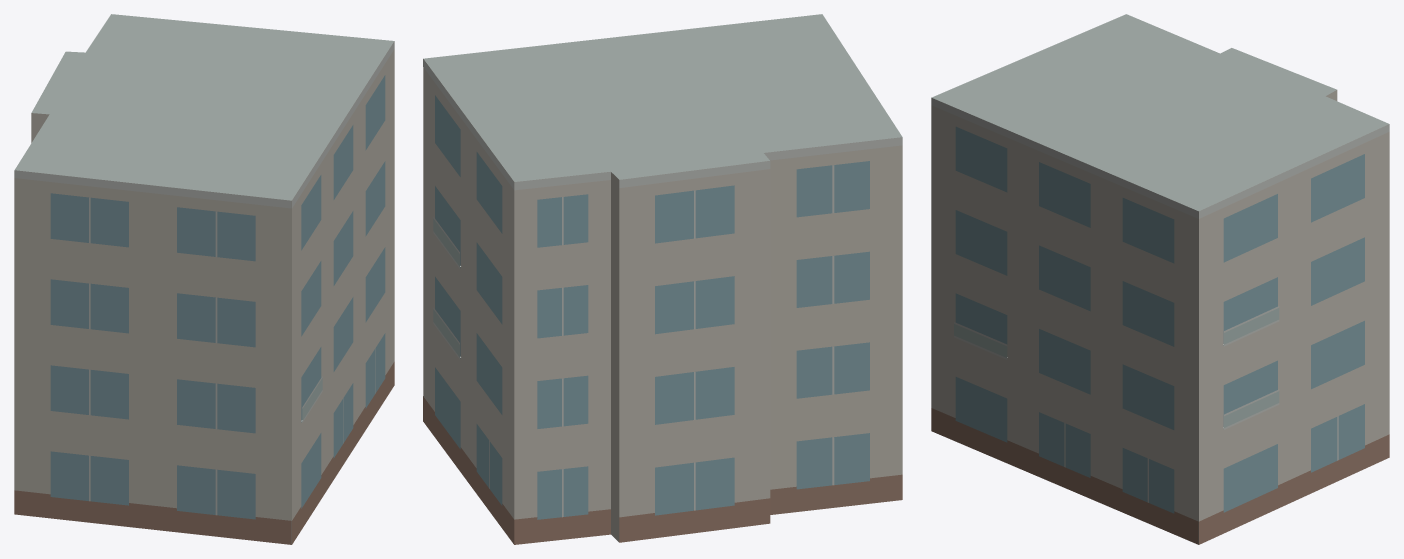
File: survey-upis-32595842.glb
The picture shows the model from 3 angles, left to right: view 1: azimuth 30°, elevation 25°; view 2: azimuth 150°, elevation 25°; view 3: azimuth 270°, elevation 25°; orthographic projection. The views are drawn at different scales.
Parts seen in each view (by area): view 1: survey-upis-32595842.tmp; view 2: survey-upis-32595842.tmp; view 3: survey-upis-32595842.tmp.
Boxes of the visible parts, <box> form: survey-upis-32595842.tmp: <box>14,14,394,544</box>; survey-upis-32595842.tmp: <box>423,14,902,544</box>; survey-upis-32595842.tmp: <box>931,14,1389,544</box>.
Bounding box in the file's own units: 13.59 × 10.7 × 13.33.
